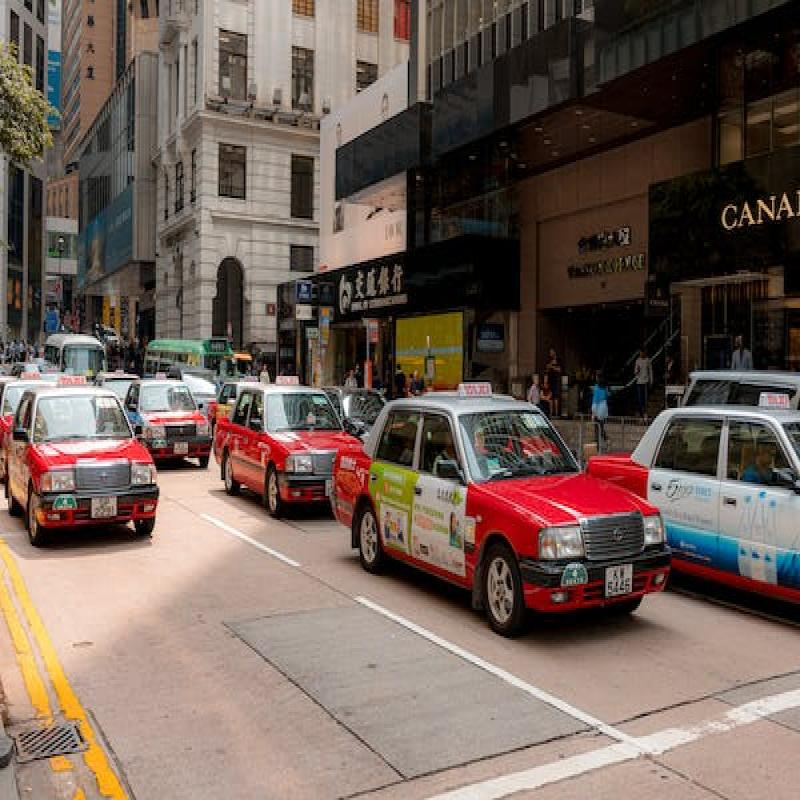car: (331, 366, 675, 675), (622, 346, 800, 659), (10, 380, 166, 556), (206, 372, 355, 538), (126, 366, 203, 476)
